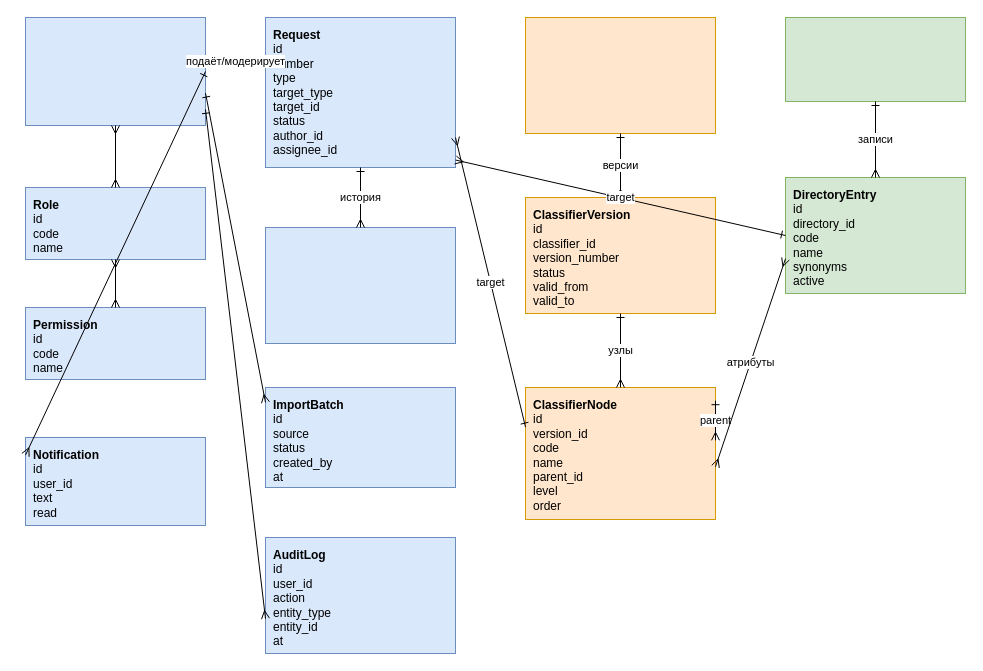
The diagram is 983 pixels wide and 671 high, and some of its shapes have lost their labels. Each missing label, with the box of its shape:
Classifier id code name type current_version_id status: (524, 16, 716, 134)
Directory id code name type: (784, 16, 966, 102)
RequestStatusHistory id request_id from_status to_status comment at: (264, 226, 456, 344)
User id login email fio active: (24, 16, 206, 126)
